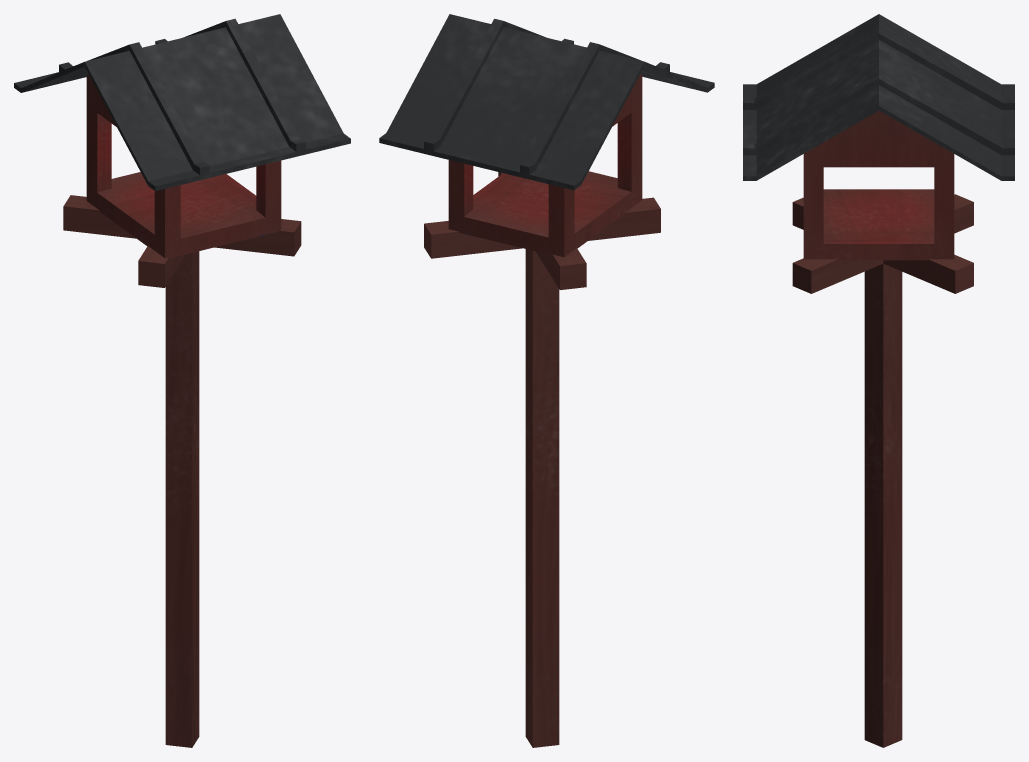
File: BgMD_Toro_0101.fbx
The picture shows the model from 3 angles, left to right: view 1: azimuth 30°, elevation 25°; view 2: azimuth 150°, elevation 25°; view 3: azimuth 270°, elevation 25°; orthographic projection. The views are drawn at different scales.
Visible parts, largest first — view 1: polySurface62; view 2: polySurface62; view 3: polySurface62.
Part boxes in pixels (<box>): polySurface62: <box>14,14,350,747</box>; polySurface62: <box>379,14,714,747</box>; polySurface62: <box>743,14,1014,747</box>.
Bounding box in the file's own units: 42.7 × 148 × 53.37.
